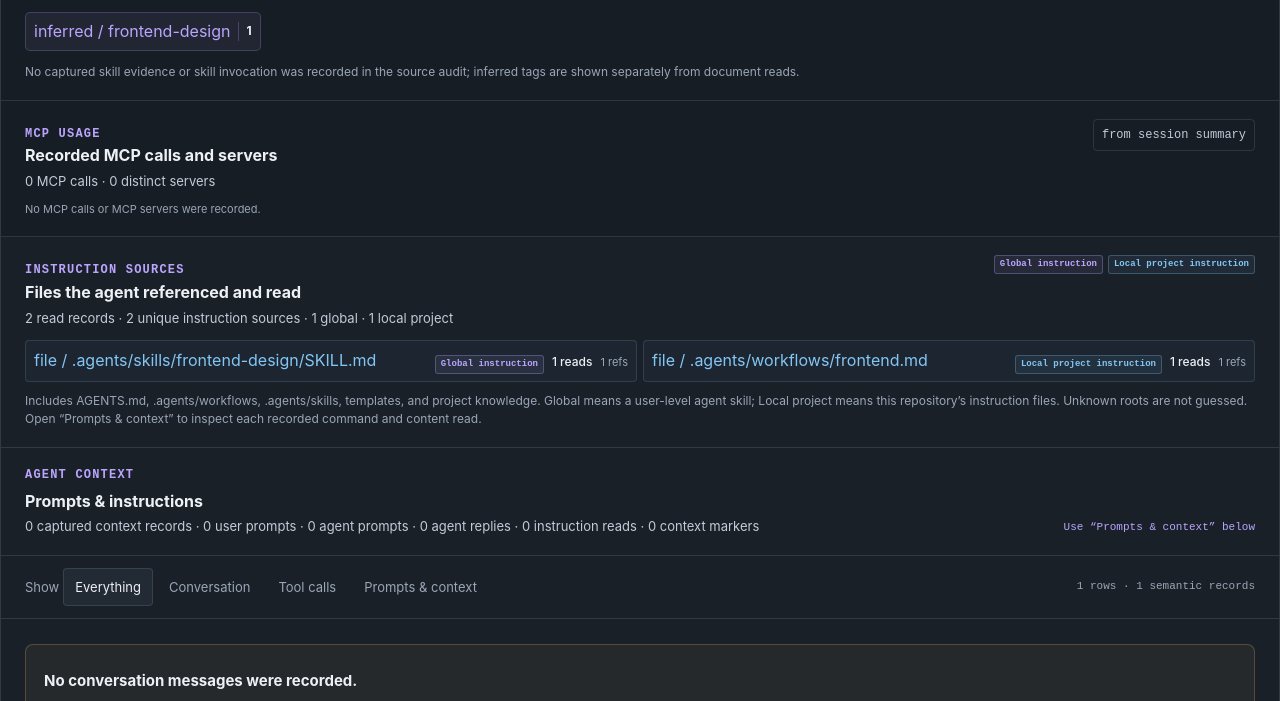
Test case: TraceView API conversation › counts session-level file evidence when its event ID is not projected onto the timeline
(page scrolled)
Expected: the text "2 read records · 2 unique instruction sources" is shown, [25,308,453,328]
Expected: the text "inferred / frontend-design" is shown, [34,19,230,44]
Click the button named "Locate captured instruction source .agents/workflows/frontend.md in the trace" at (671, 360), box [643,340,1255,382]
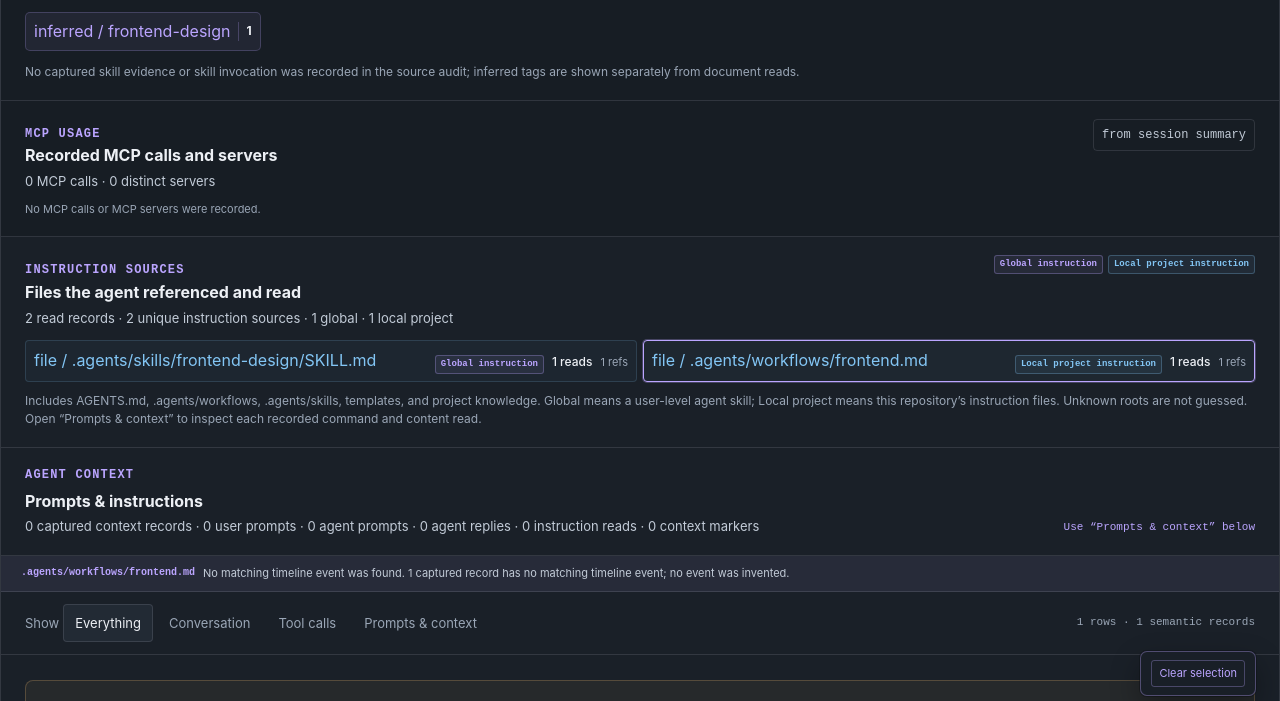
Expected: the text "No matching timeline event was found." is shown, [203,566,405,580]
Expected: the message with class "evidence-selection-notice" shows "no event was invented", [405,566,790,580]
